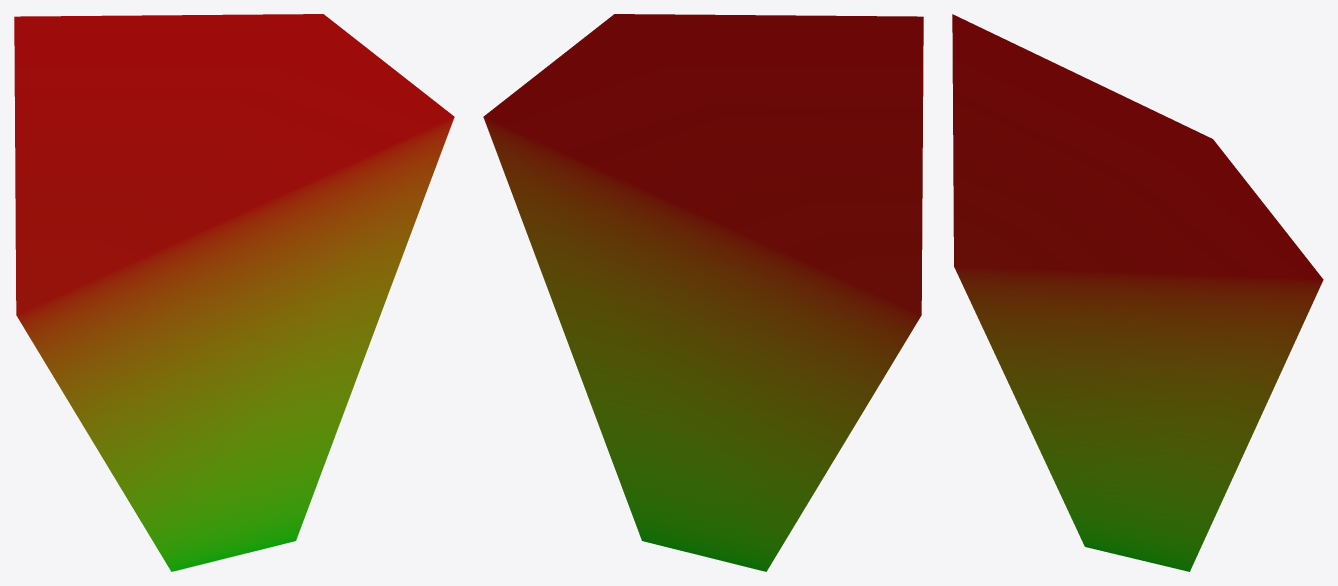
File: Var8_LOD5.fbx
The picture shows the model from 3 angles, left to right: view 1: azimuth 30°, elevation 25°; view 2: azimuth 150°, elevation 25°; view 3: azimuth 330°, elevation 25°; orthographic projection. The views are drawn at different scales.
Visible parts, largest first — view 1: _0lan_Var8_LOD5; view 2: _0lan_Var8_LOD5; view 3: _0lan_Var8_LOD5.
Boxes of the visible parts, x1,y1,x2,y2 form: _0lan_Var8_LOD5: (14, 14, 454, 571); _0lan_Var8_LOD5: (483, 14, 923, 571); _0lan_Var8_LOD5: (952, 14, 1323, 571).
Bounding box in the file's own units: 24.14 × 31.1 × 0.000248.
